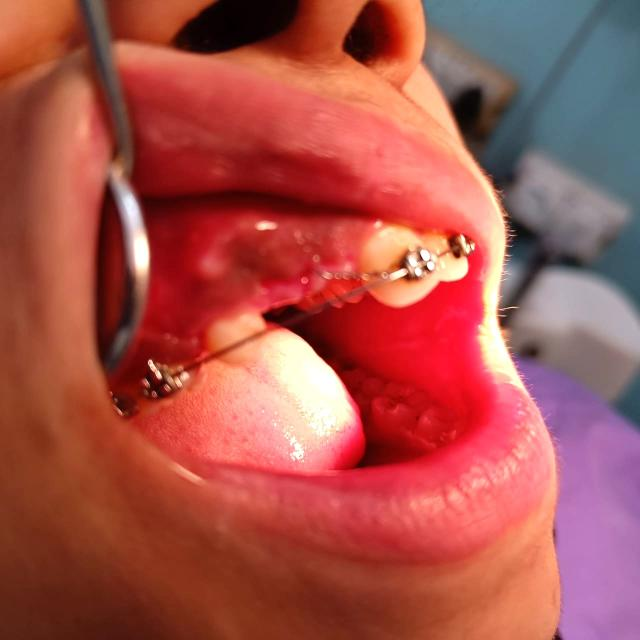No Cancer: (140, 212, 396, 389)
